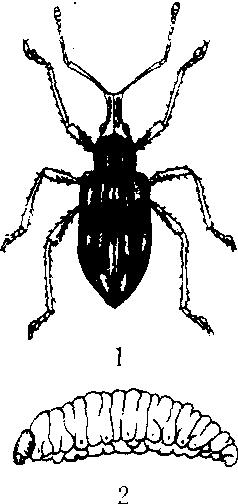Curculionidae: (1, 1, 238, 341)
